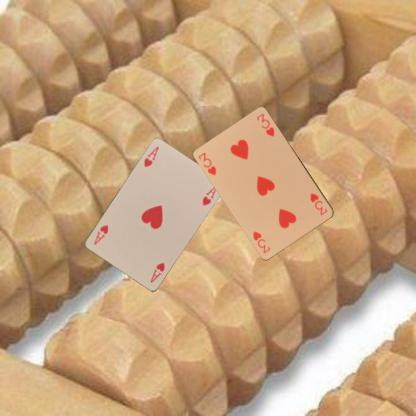3h: (196, 150, 218, 176), (308, 190, 329, 216)
Ah: (141, 144, 160, 169), (147, 260, 166, 284)
